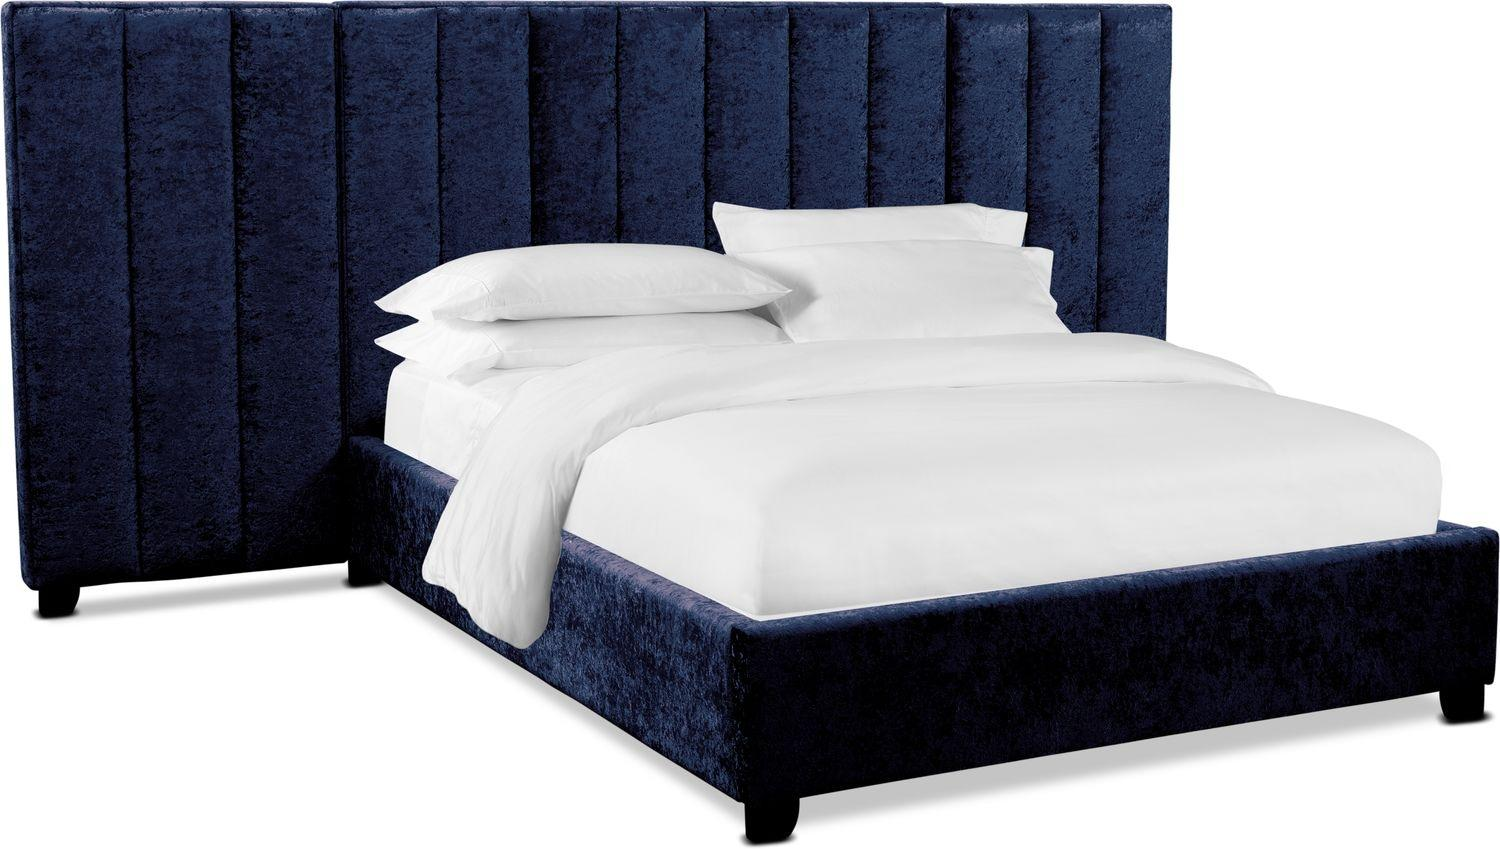bed: (372, 168, 1500, 668)
